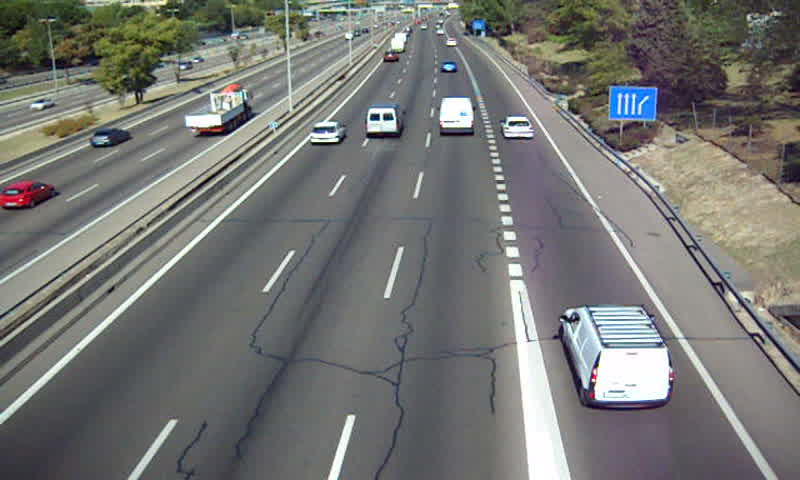car: (310, 120, 347, 145), (500, 116, 534, 140), (440, 60, 458, 75)
van: (559, 306, 673, 409), (366, 101, 406, 137), (439, 97, 475, 135)
